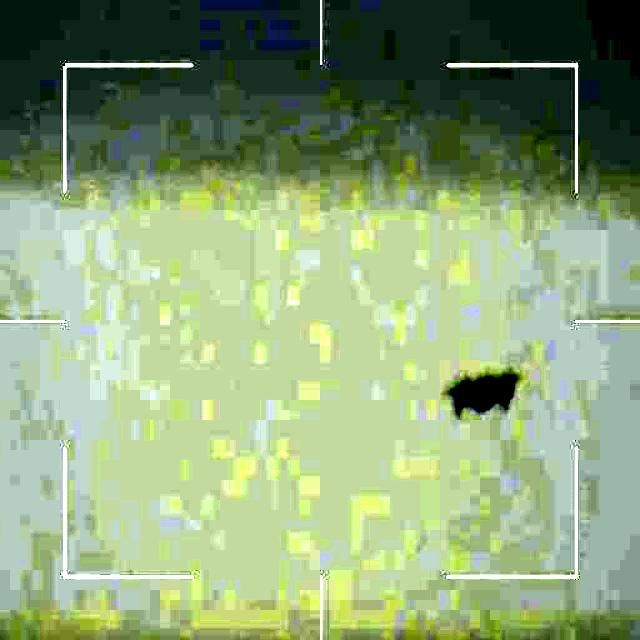bird: (452, 372, 520, 418)
